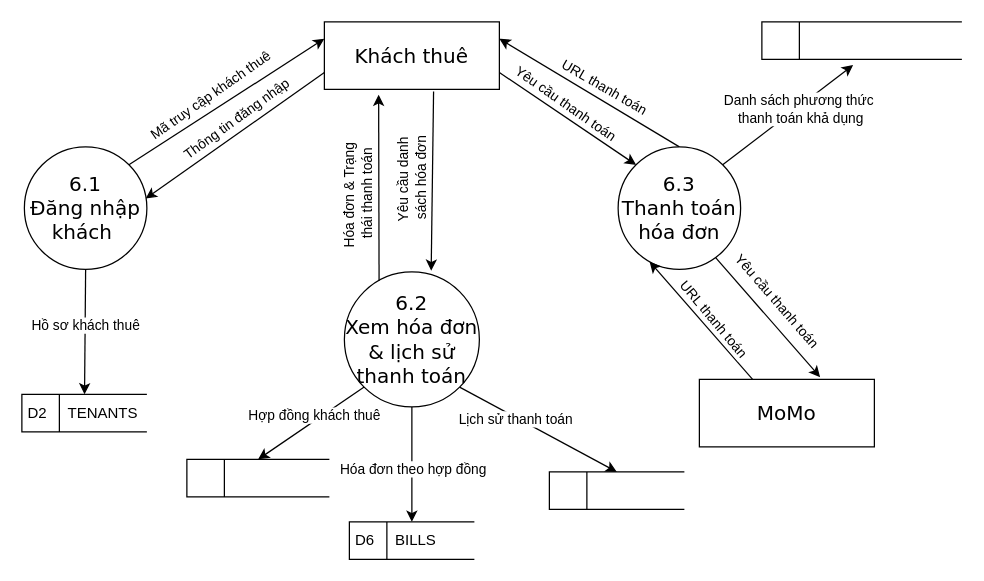
The diagram is 984 pixels wide and 581 high, and some of its shapes have lost their labels. The shapes that lost their labels are listed below. From the top down, each one's box as (x1, y1, x2, y2) in pixels, then its label:
(761, 21, 962, 59): D10 PAYMENTS SETTING
(186, 458, 329, 497): D1 CONTRACTS
(548, 471, 684, 509): D5 PAYMENTS
